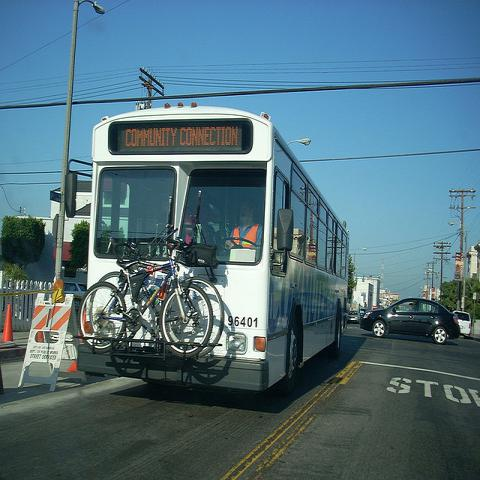bus: (70, 101, 354, 390)
car: (360, 298, 462, 344), (63, 282, 86, 310), (453, 310, 472, 335), (346, 311, 360, 324)
